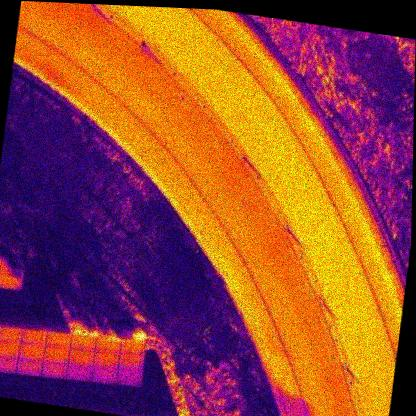Hotspot: (95, 336, 121, 353)
Normal: (115, 364, 143, 388), (65, 360, 94, 382), (41, 357, 68, 378), (18, 340, 45, 361), (93, 347, 120, 368), (68, 344, 95, 365), (15, 357, 43, 377), (92, 364, 119, 384), (45, 330, 72, 349), (43, 344, 70, 362), (118, 351, 144, 369), (120, 338, 144, 356), (21, 328, 47, 344), (70, 332, 96, 348), (0, 354, 19, 374), (0, 339, 20, 358), (0, 325, 22, 342)
Shadow: (0, 257, 25, 276), (2, 242, 28, 260), (0, 272, 22, 289)
